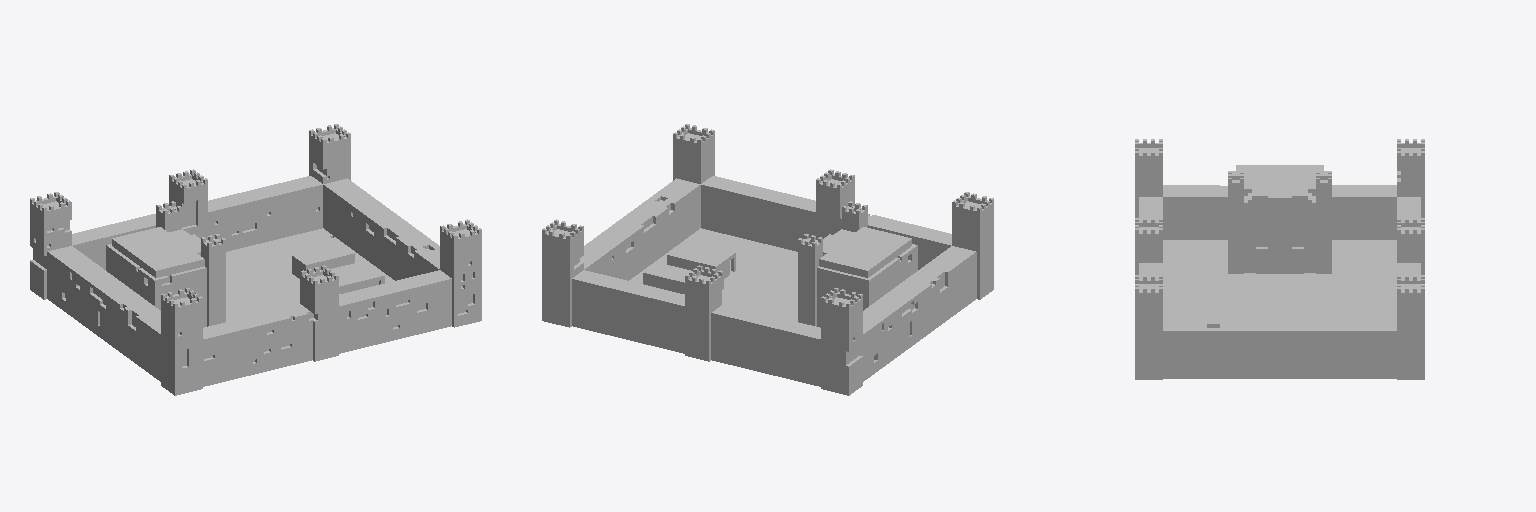
File: fort t2.obj
The picture shows the model from 3 angles: view 1: azimuth 30°, elevation 25°; view 2: azimuth 150°, elevation 25°; view 3: azimuth 270°, elevation 25°; orthographic projection.
Visible parts, largest first — view 1: object 1; view 2: object 1; view 3: object 1.
Part boxes in pixels (x1,y1,x2,y2): object 1: (30, 124, 481, 395); object 1: (542, 124, 993, 395); object 1: (1135, 139, 1424, 379).
Size of the model in its own units: 8.8 by 2.7 by 7.2.